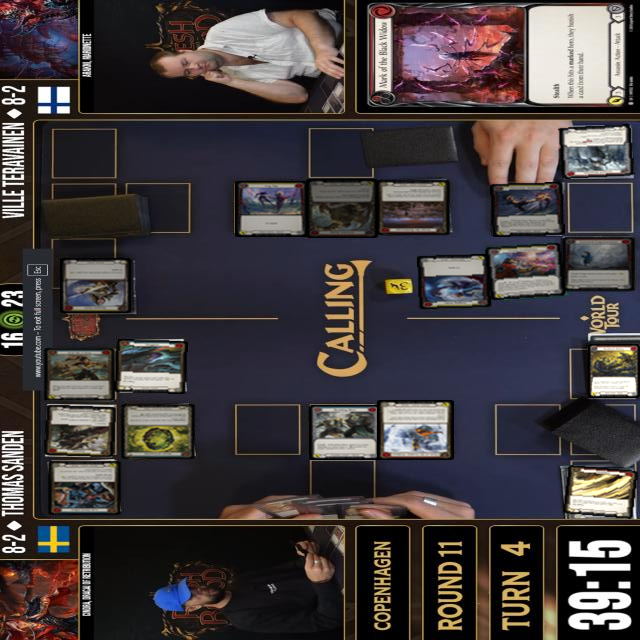Ancestral_Empowerment_WTR082: (561, 235, 636, 292)
Breakneck_Battery_WTR011: (588, 344, 640, 398)
Buckling_Blow_WTR059: (309, 404, 381, 460)
Crush_Confidence_WTR064: (485, 242, 568, 301)
Flock_of_the_Feather_Walkers_WTR182: (377, 400, 455, 460)
Heart_of_Fyendal_WTR000: (120, 403, 196, 460)
Hurricane_Technique_WTR084: (490, 181, 566, 236)
Last_Ditch_Effort_WTR161: (47, 459, 122, 516)
Leg_Tap_WTR102: (235, 180, 308, 237)
Nimblism_WTR218: (562, 465, 639, 519)
Pummel_WTR207: (43, 404, 117, 458)
Scar_for_a_Scar_WTR193: (43, 347, 116, 402)
Scour_the_Battlescape_WTR194: (376, 178, 452, 235)
Sharpen_Steel_WTR142: (61, 257, 131, 312)
Sloggism_WTR223: (115, 338, 189, 394)
Staunch_Response_WTR051: (558, 123, 635, 178)
Surging_Strike_WTR108: (417, 254, 491, 309)
Wrecker_Romp_WTR029: (306, 178, 378, 238)
